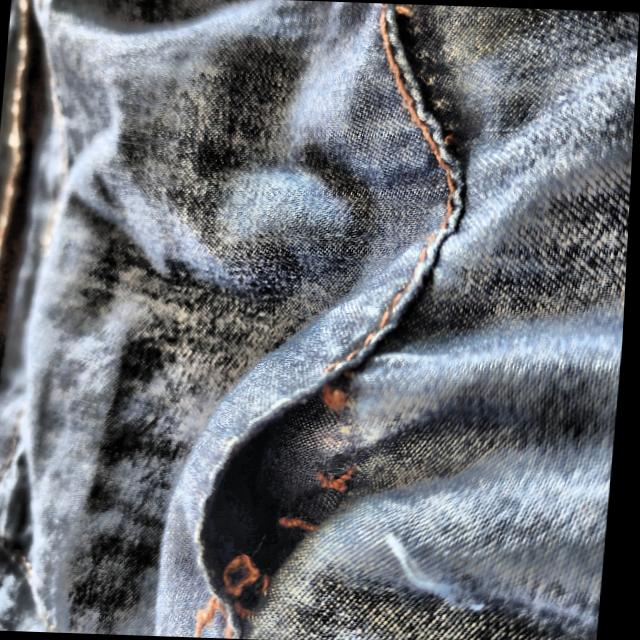seam: (155, 354, 408, 628), (354, 1, 486, 199)
